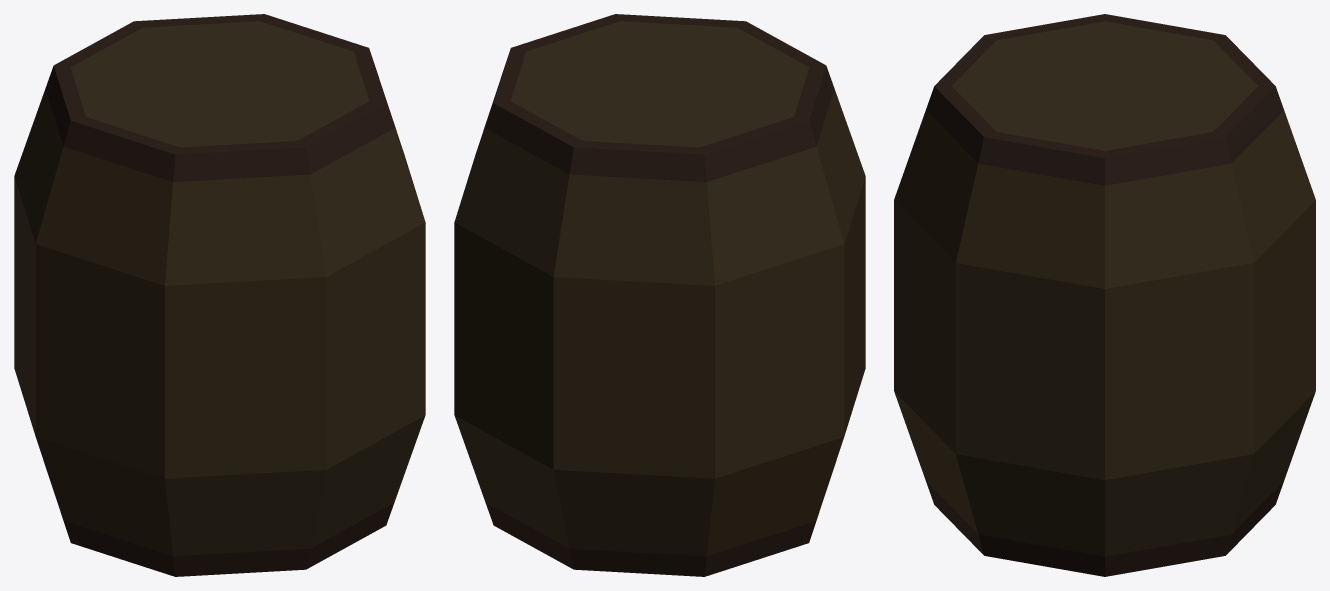
3 renders of one model, left to right at view 1: azimuth 30°, elevation 25°; view 2: azimuth 150°, elevation 25°; view 3: azimuth 270°, elevation 25°, orthographic.
Parts seen in each view (by area): view 1: Cylinder009; view 2: Cylinder009; view 3: Cylinder009.
Part boxes in pixels (bbox=[...]): Cylinder009: bbox=[14, 14, 425, 576]; Cylinder009: bbox=[454, 14, 865, 576]; Cylinder009: bbox=[894, 14, 1315, 576].
Size of the model in its own units: 1 by 1.09 by 1.
